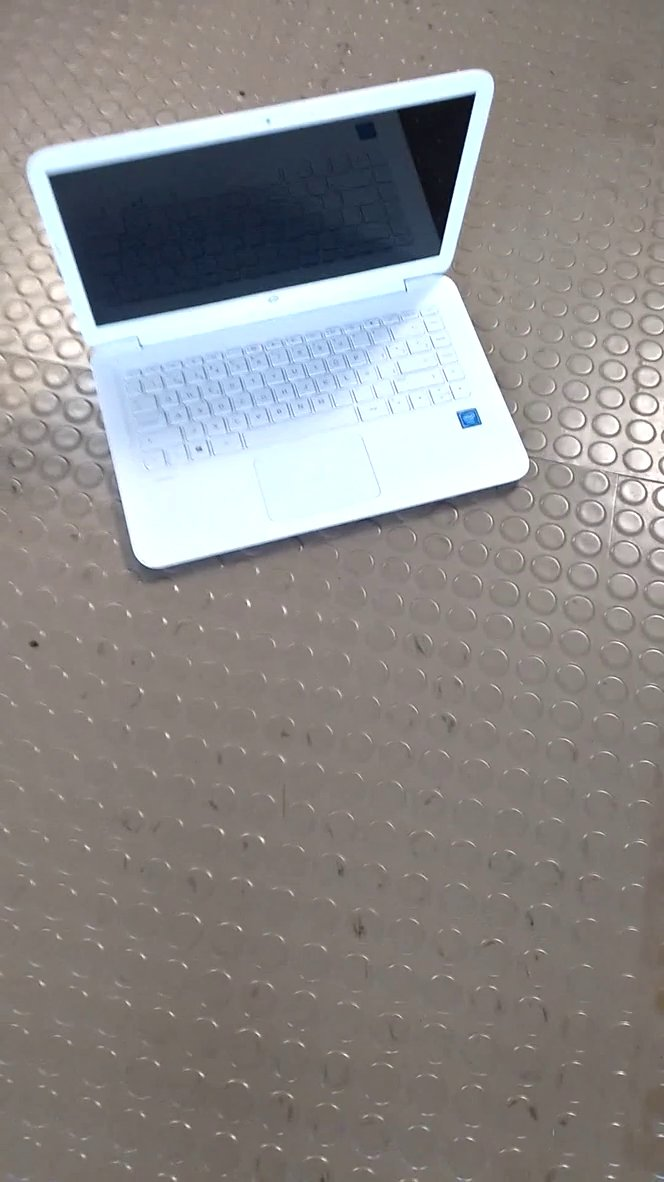laptop: (23, 61, 536, 580)
